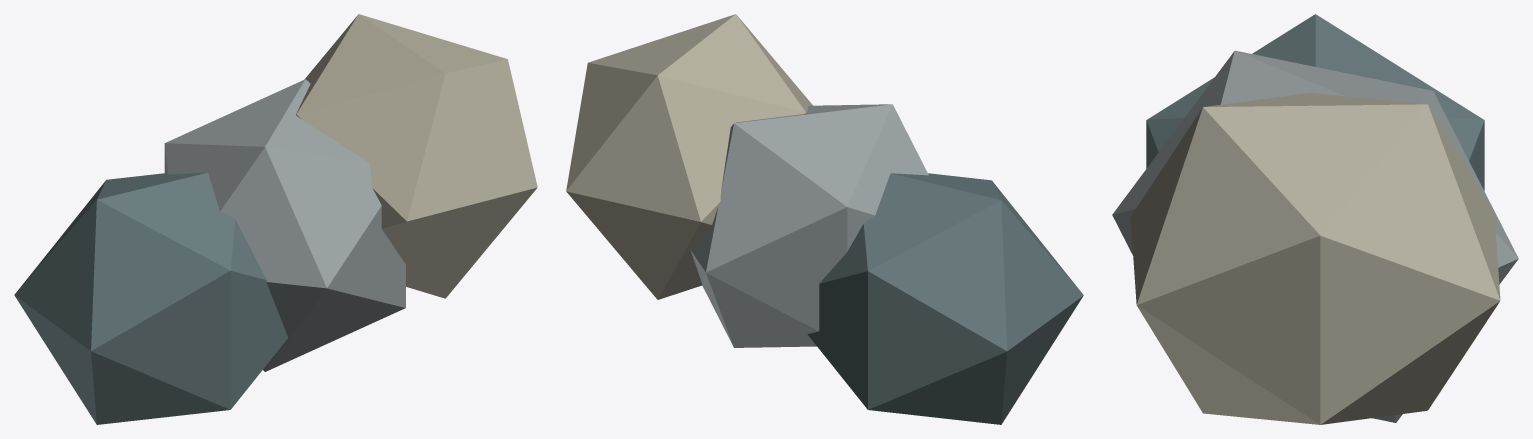
Rendered from rock.glb.
The picture shows the model from 3 angles, left to right: view 1: azimuth 30°, elevation 25°; view 2: azimuth 150°, elevation 25°; view 3: azimuth 270°, elevation 25°; orthographic projection. The views are drawn at different scales.
Size of the model in its own units: 1.17 by 0.7529 by 0.6652.
